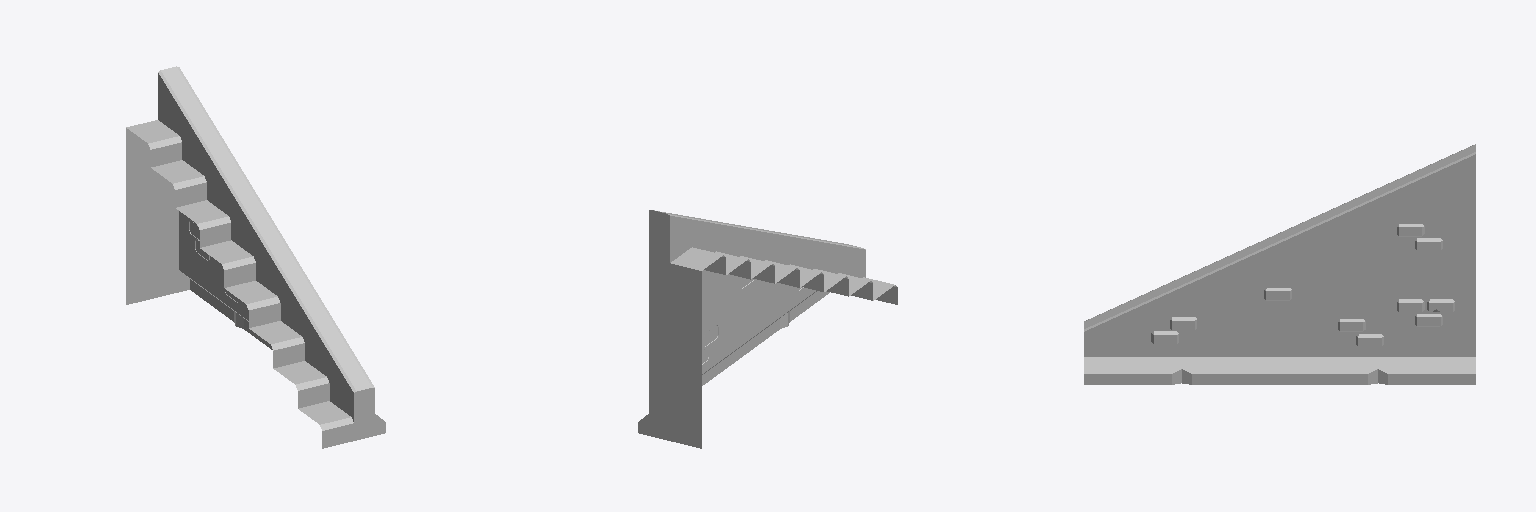
File: stairs_long_modular_right.obj
3 renders of one model, left to right at view 1: azimuth 30°, elevation 25°; view 2: azimuth 150°, elevation 25°; view 3: azimuth 270°, elevation 25°, orthographic.
Parts seen in each view (by area): view 1: stairs_long_modular_right; view 2: stairs_long_modular_right; view 3: stairs_long_modular_right.
Part boxes in pixels (left/top/right/bottom): stairs_long_modular_right: left=126, top=66, right=385, bottom=448; stairs_long_modular_right: left=638, top=210, right=897, bottom=448; stairs_long_modular_right: left=1084, top=144, right=1475, bottom=384.
Size of the model in its own units: 1.5 by 5.1 by 8.